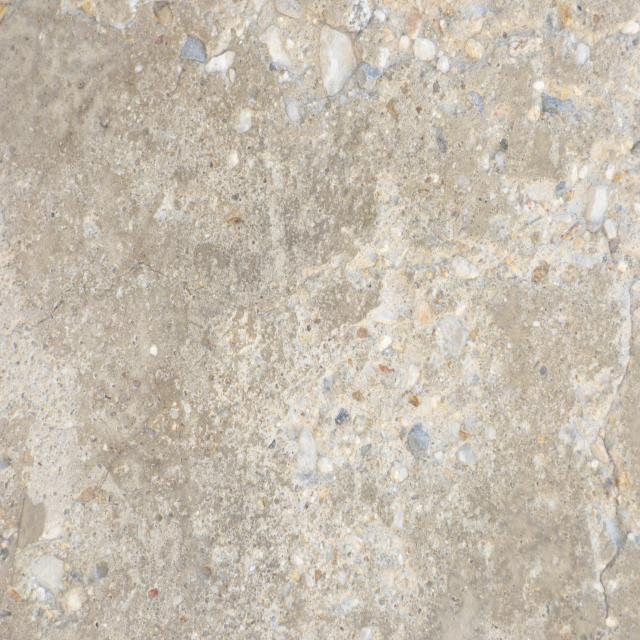horizontal crack: (0, 257, 339, 340)
vertical crack: (569, 134, 640, 640)
